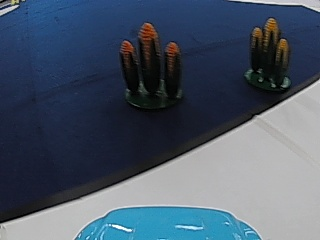corn: (119, 20, 183, 111), (244, 15, 291, 91)
